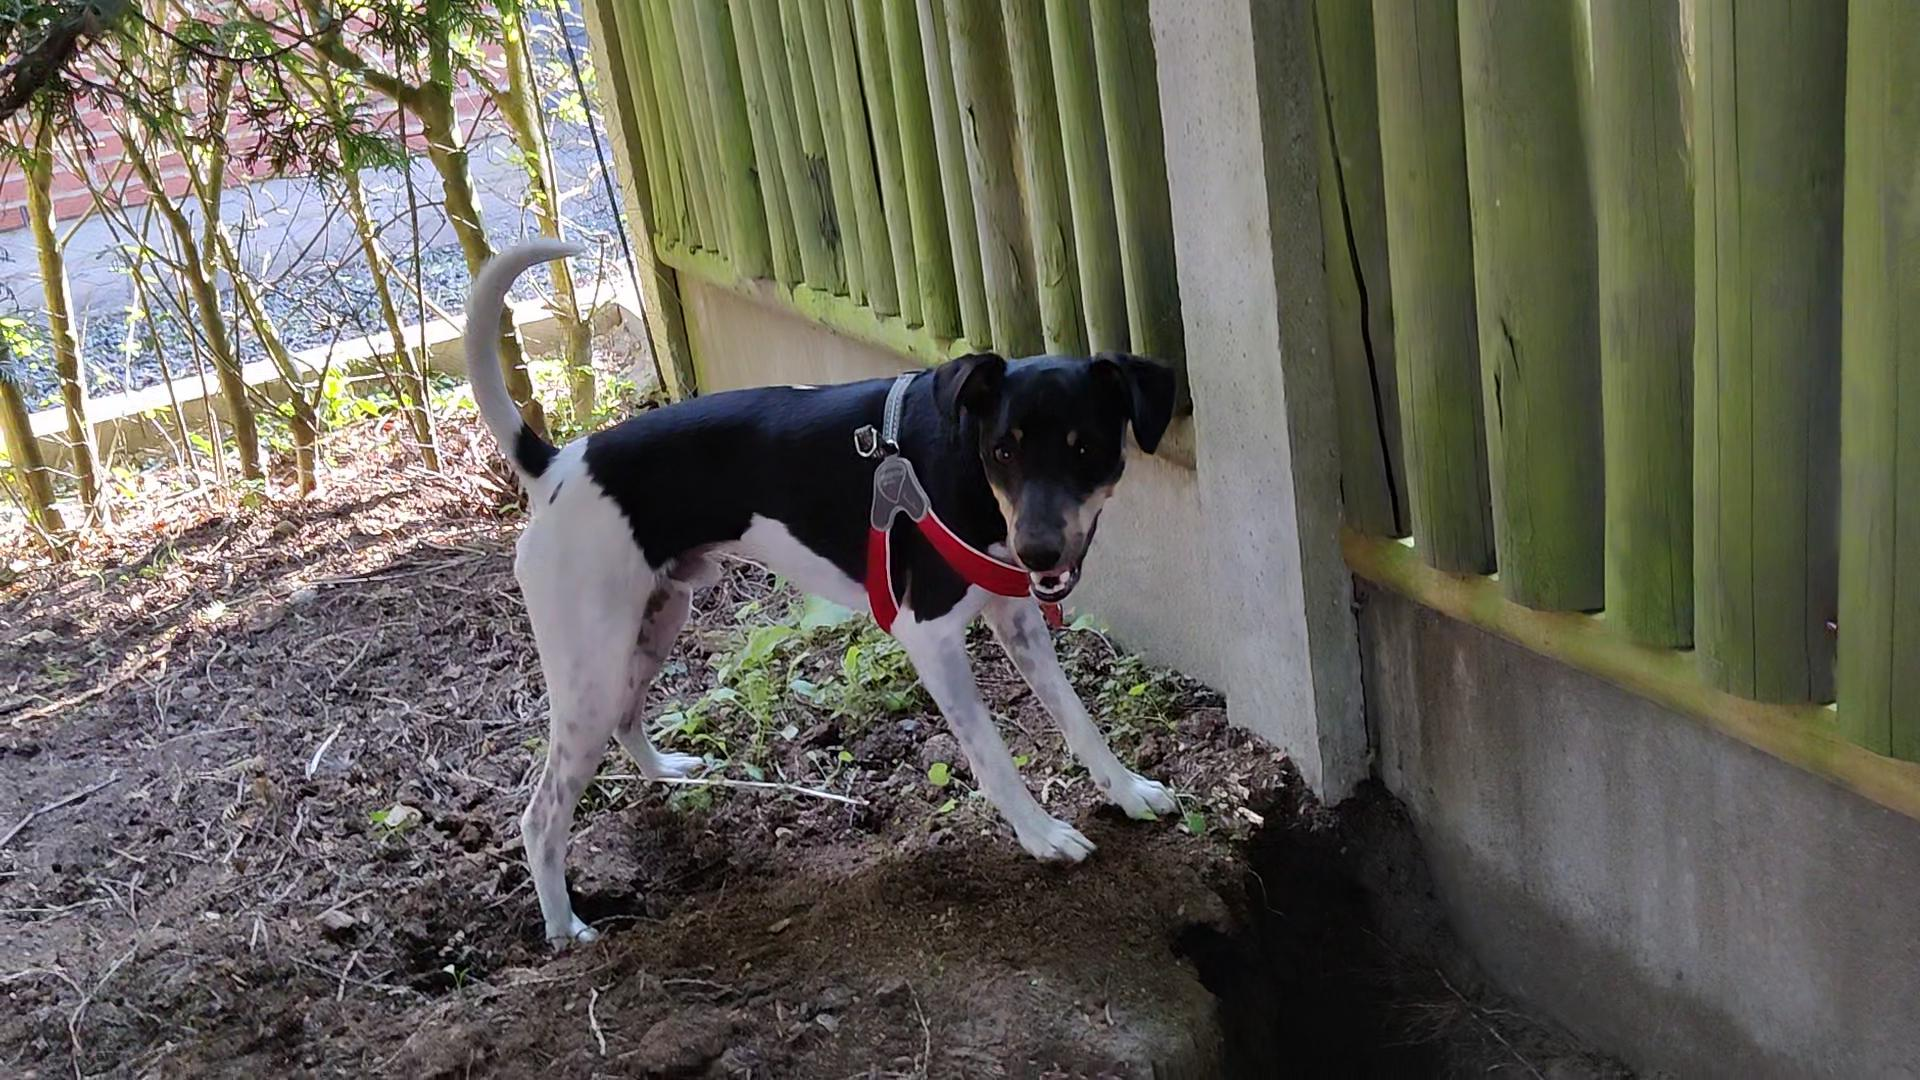Dog: (446, 218, 1203, 952)
